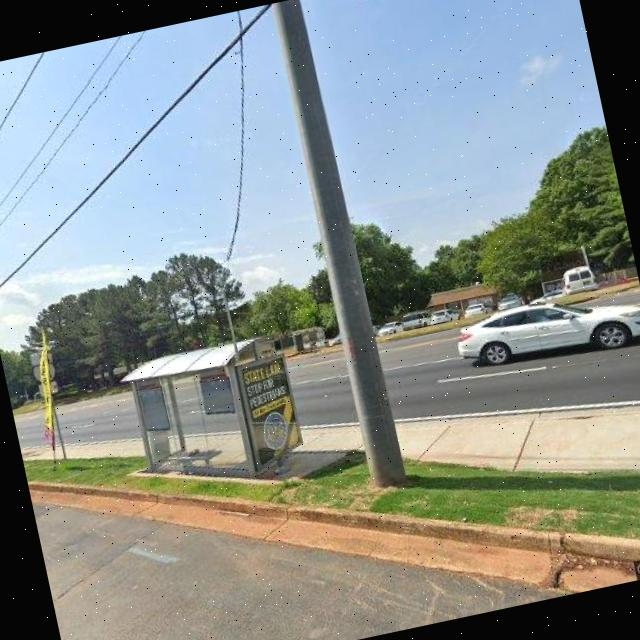seating: (160, 442, 226, 480)
shelter: (116, 331, 310, 504)
